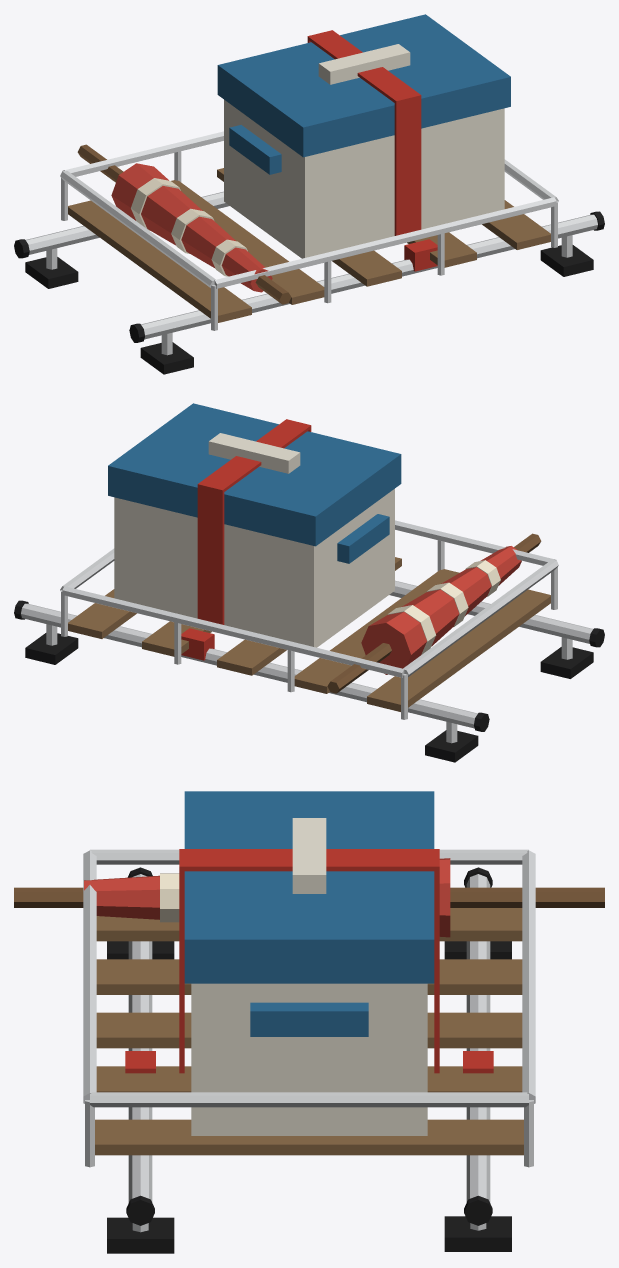
The model's file is roofrack_esky_classic.glb.
The picture shows the model from 3 angles, top to bottom: view 1: azimuth 30°, elevation 25°; view 2: azimuth 150°, elevation 25°; view 3: azimuth 270°, elevation 25°; orthographic projection. The views are drawn at different scales.
Visible parts, largest first — view 1: Esky, Basket, RoofRack, Umbrella, Straps; view 2: Esky, Basket, RoofRack, Umbrella, Straps; view 3: Esky, Basket, RoofRack, Umbrella, Straps.
Boxes of the visible parts, box(x1,y1,x2,y2) form: Esky: box(217, 14, 510, 258); Basket: box(60, 131, 558, 330); RoofRack: box(14, 191, 604, 374); Umbrella: box(77, 144, 291, 304); Straps: box(307, 30, 437, 271); Esky: box(108, 403, 401, 647); Basket: box(60, 520, 558, 719); RoofRack: box(14, 580, 604, 762); Umbrella: box(327, 533, 541, 693); Straps: box(181, 419, 311, 660); Esky: box(184, 791, 434, 1135); Basket: box(83, 849, 535, 1167); RoofRack: box(107, 867, 511, 1253); Umbrella: box(14, 858, 604, 937); Straps: box(125, 849, 493, 1073).
Bounding box in the file's own units: 0.932 × 0.383 × 0.7.
